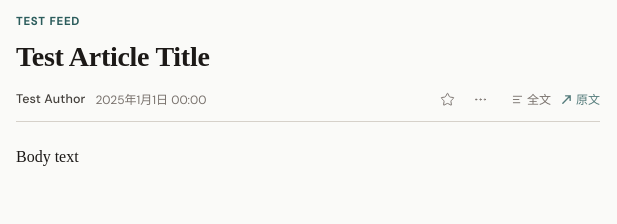
text-only toggle › reads the persisted preference from localStorage on mount
Expected: the text "Body text" is shown, x1=16 y1=148 x2=79 y2=165
Click the button named "更多操作". click: click(480, 99)
box: x1=469 y1=88 x2=492 y2=111
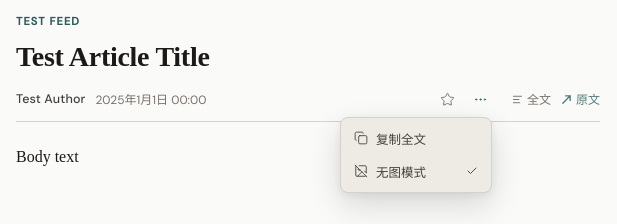
Expected: the icon with class "lucide-check" is shown, x1=466 y1=165 x2=478 y2=177
Now the menu item "无图模式" is shown, box x1=345 y1=155 x2=487 y2=188
